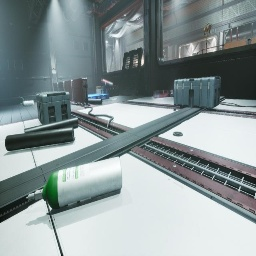0: (26, 156, 122, 209), (20, 100, 34, 106)
NitrogenTank ,: (101, 78, 114, 88), (153, 90, 169, 98)
